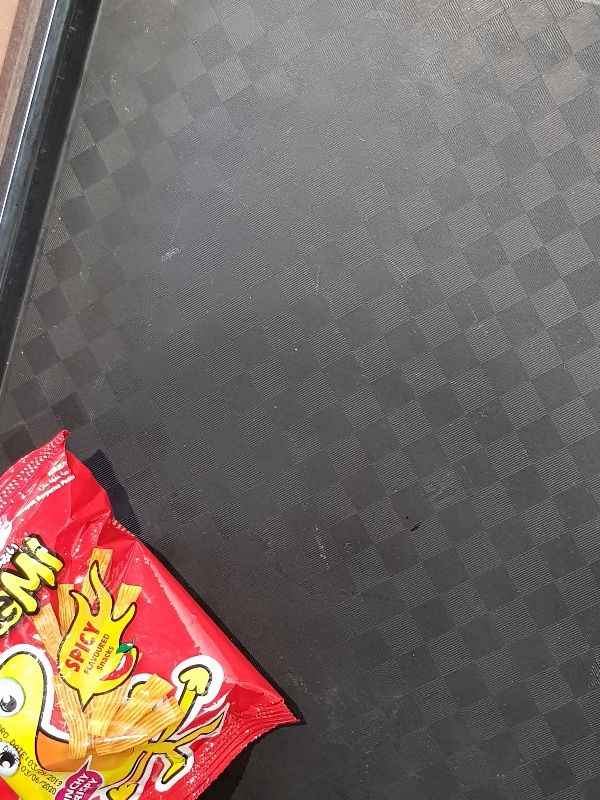ShoyueMi Spicy Flavoured Snacks: (1, 426, 304, 800)
